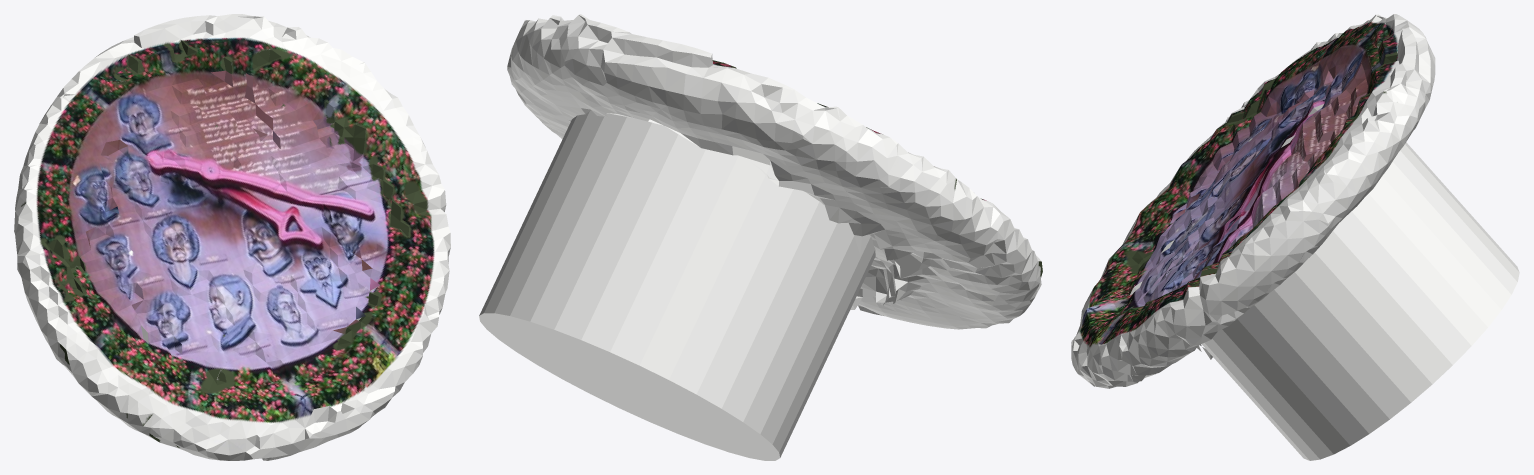
File: RELOJ.glb
3 views of the same model, side by side, from view 1: azimuth 30°, elevation 25°; view 2: azimuth 150°, elevation 25°; view 3: azimuth 270°, elevation 25° (orthographic). The views are drawn at different scales.
Visible parts, largest first — view 1: output; view 2: output; view 3: output.
Part boxes in pixels (<box>): output: <box>14,14,450,460</box>; output: <box>479,14,1042,460</box>; output: <box>1071,14,1519,460</box>.
Size of the model in its own units: 4.65 by 4.11 by 4.3.
1 material, 1 textured.
